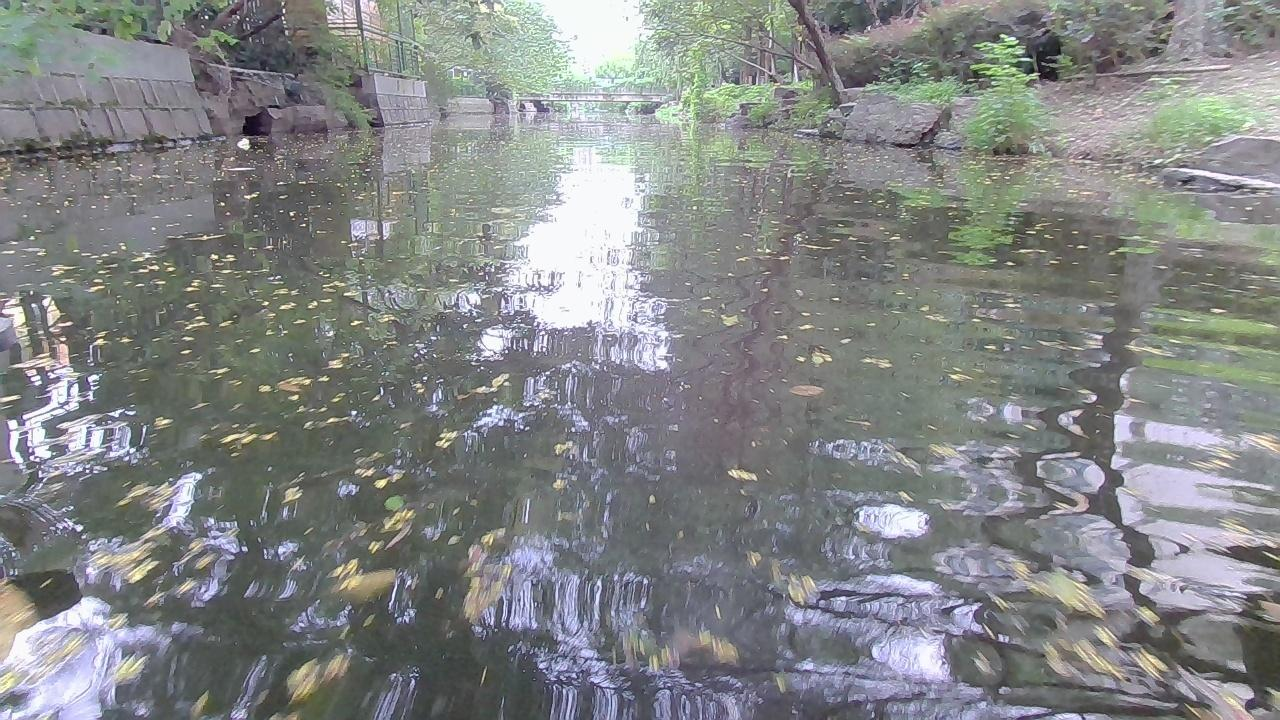bottle: (235, 137, 251, 145)
